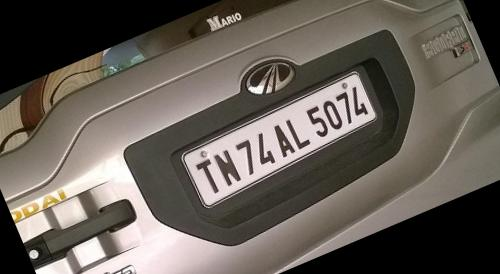plate: (176, 65, 389, 211)
